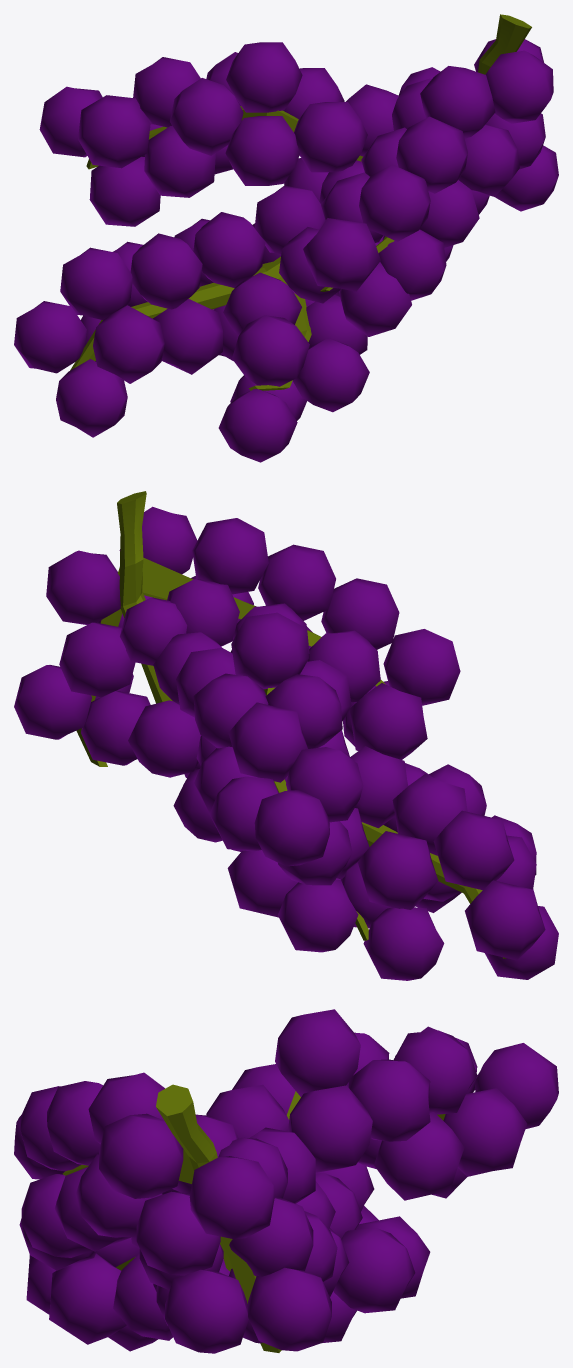
File: Grape_01.fbx
3 renders of one model, top to bottom at view 1: azimuth 30°, elevation 25°; view 2: azimuth 150°, elevation 25°; view 3: azimuth 270°, elevation 25°, orthographic. The views are drawn at different scales.
Parts seen in each view (by area): view 1: Grape_01; view 2: Grape_01; view 3: Grape_01.
Part boxes in pixels (bbox=[...]): Grape_01: bbox=[14, 14, 558, 462]; Grape_01: bbox=[14, 491, 558, 980]; Grape_01: bbox=[14, 1009, 558, 1353].
Bounding box in the file's own units: 23.88 × 15.66 × 19.03.
